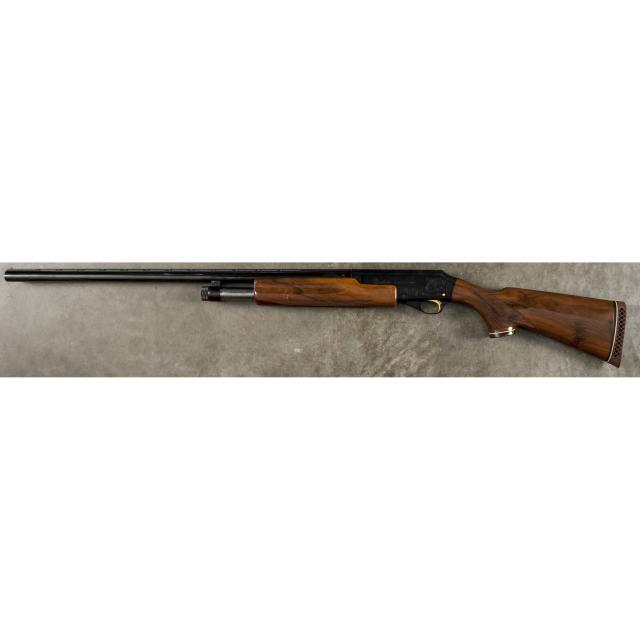ShotGun: (5, 269, 620, 359)
